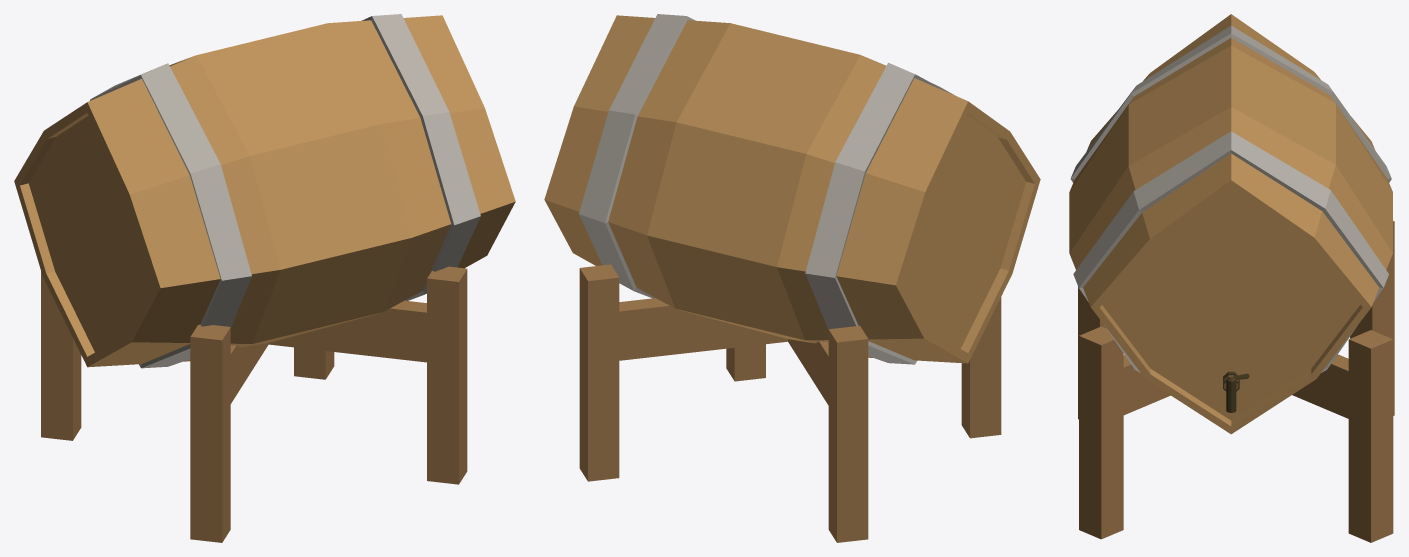
Rendered from FermentationTank.glb.
The picture shows the model from 3 angles, left to right: view 1: azimuth 30°, elevation 25°; view 2: azimuth 150°, elevation 25°; view 3: azimuth 270°, elevation 25°; orthographic projection. The views are drawn at different scales.
Parts seen in each view (by area): view 1: FermentationTank_cuve, FermentationTank_pieds; view 2: FermentationTank_cuve, FermentationTank_pieds; view 3: FermentationTank_cuve, FermentationTank_pieds, FermentationTank_embouchure.
Boxes of the visible parts, box(x1,y1,x2,y2) form: FermentationTank_cuve: box(14, 14, 515, 368); FermentationTank_pieds: box(41, 266, 467, 542); FermentationTank_cuve: box(544, 14, 1040, 364); FermentationTank_pieds: box(579, 264, 1001, 542); FermentationTank_cuve: box(1069, 14, 1392, 434); FermentationTank_pieds: box(1078, 221, 1394, 542); FermentationTank_embouchure: box(1223, 371, 1249, 412).
Bounding box in the file's own units: 1.07 × 1.15 × 0.8484.
